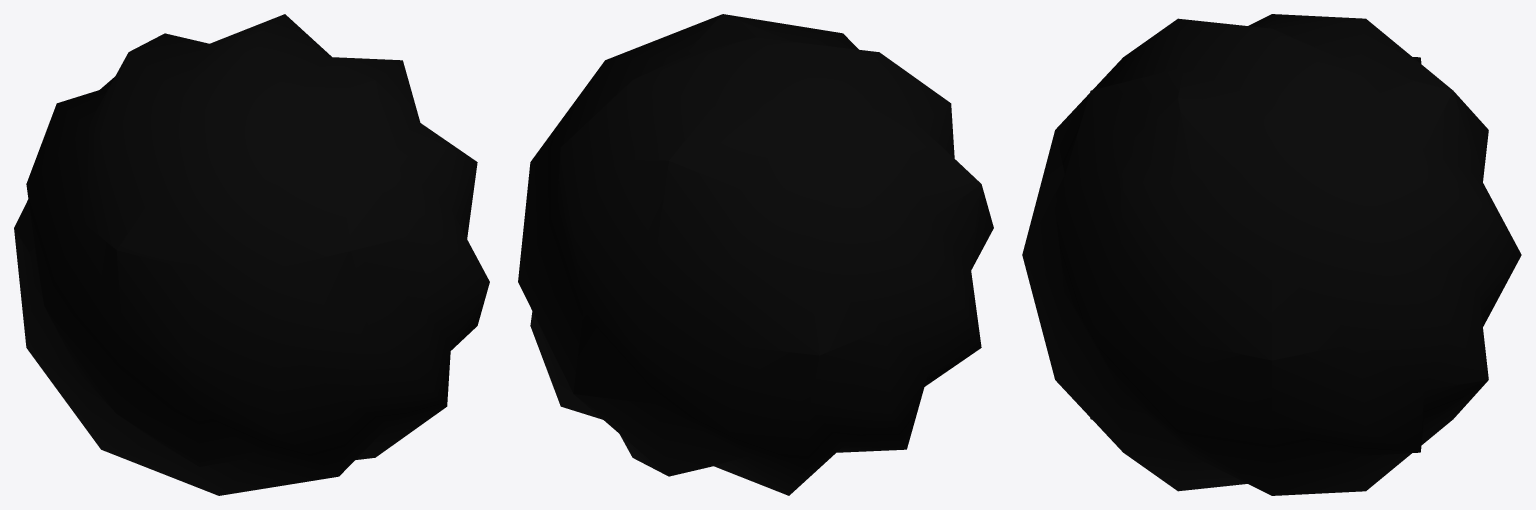
The model's file is Hair_13.fbx.
3 renders of one model, left to right at view 1: azimuth 30°, elevation 25°; view 2: azimuth 150°, elevation 25°; view 3: azimuth 270°, elevation 25°, orthographic. The views are drawn at different scales.
Parts seen in each view (by area): view 1: Hair_13; view 2: Hair_13; view 3: Hair_13.
Part boxes in pixels (x1,y1,x2,y2): Hair_13: (14,14,489,495); Hair_13: (518,14,993,495); Hair_13: (1022,14,1521,495).
Size of the model in its own units: 132 by 132 by 132.
